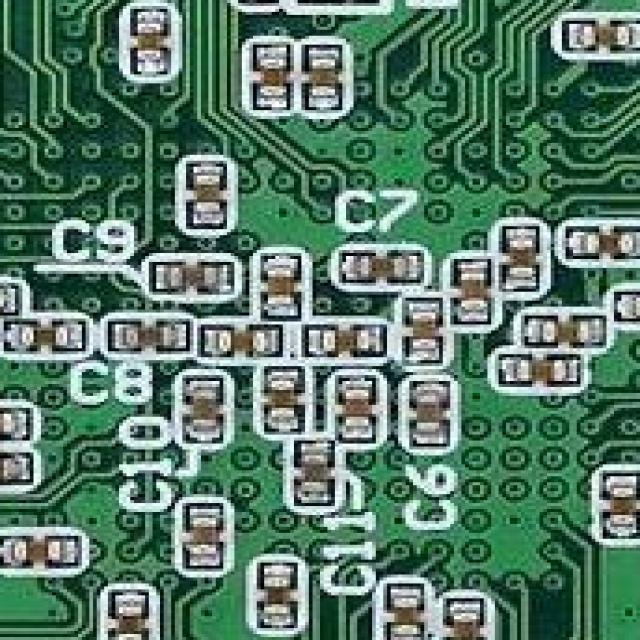EM: (298, 0, 380, 15)
capacitor: (119, 3, 175, 80), (249, 557, 305, 634), (249, 244, 305, 319), (142, 253, 235, 298), (175, 152, 227, 232), (100, 310, 194, 354), (331, 244, 428, 286), (491, 348, 588, 390), (491, 217, 543, 295), (175, 366, 227, 444), (550, 9, 640, 53), (446, 250, 495, 330), (294, 39, 346, 113), (286, 432, 338, 506), (331, 372, 380, 450), (406, 375, 458, 447), (175, 500, 227, 572), (517, 307, 607, 348), (197, 319, 287, 360), (0, 527, 82, 571), (96, 577, 152, 640), (562, 217, 640, 262), (591, 467, 640, 538), (257, 366, 305, 438), (0, 313, 82, 354), (402, 292, 446, 366), (298, 319, 383, 357), (375, 574, 420, 640), (246, 39, 286, 113), (436, 589, 488, 640), (603, 280, 640, 324), (0, 446, 33, 485), (0, 401, 33, 437), (0, 277, 26, 312), (227, 0, 286, 6)
